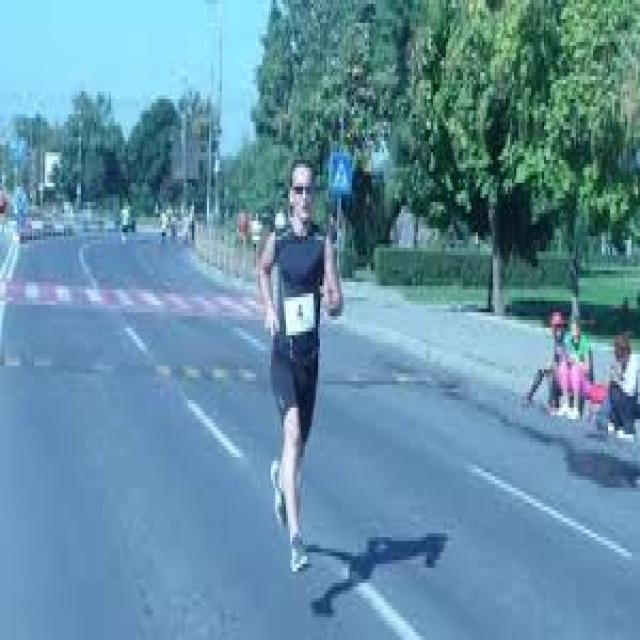running: (257, 160, 343, 573)
